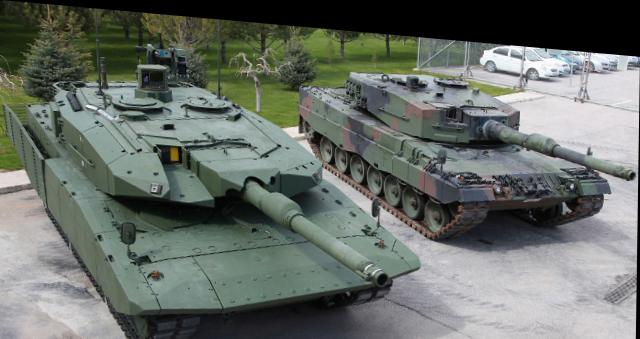tank: (4, 50, 407, 338)
